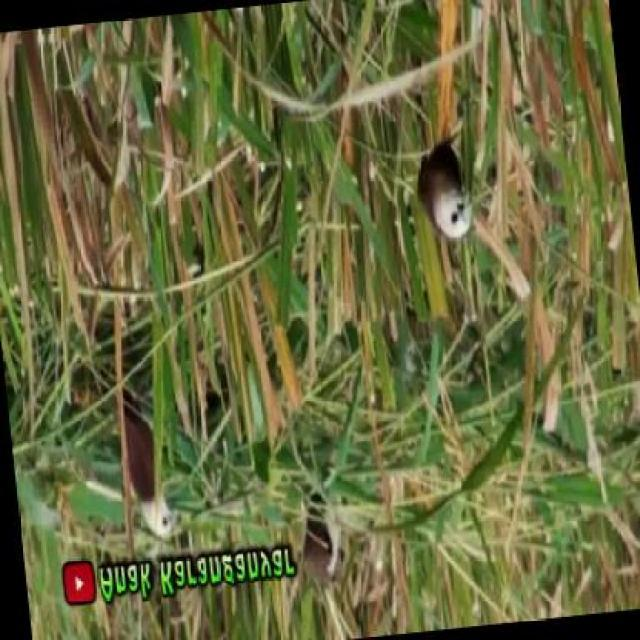Bird: (102, 386, 193, 546), (410, 126, 477, 260), (294, 502, 341, 592)
